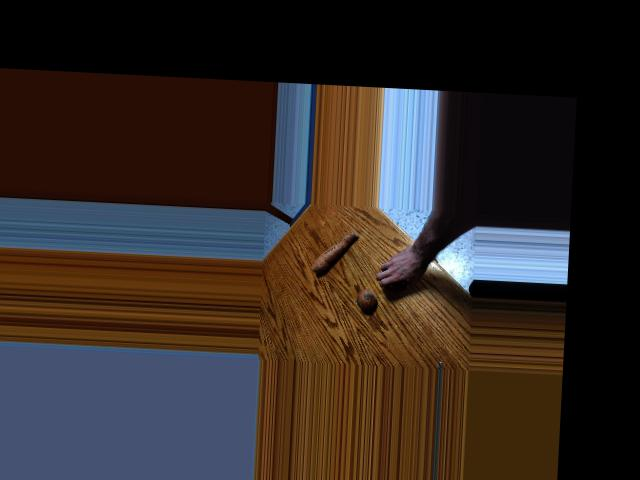onion: (385, 269, 409, 291)
